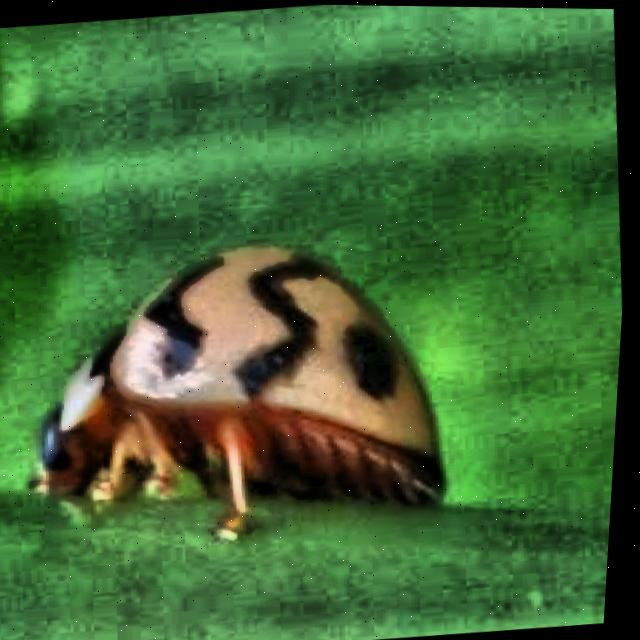Asian-Lady-beetle: (0, 143, 542, 604)
